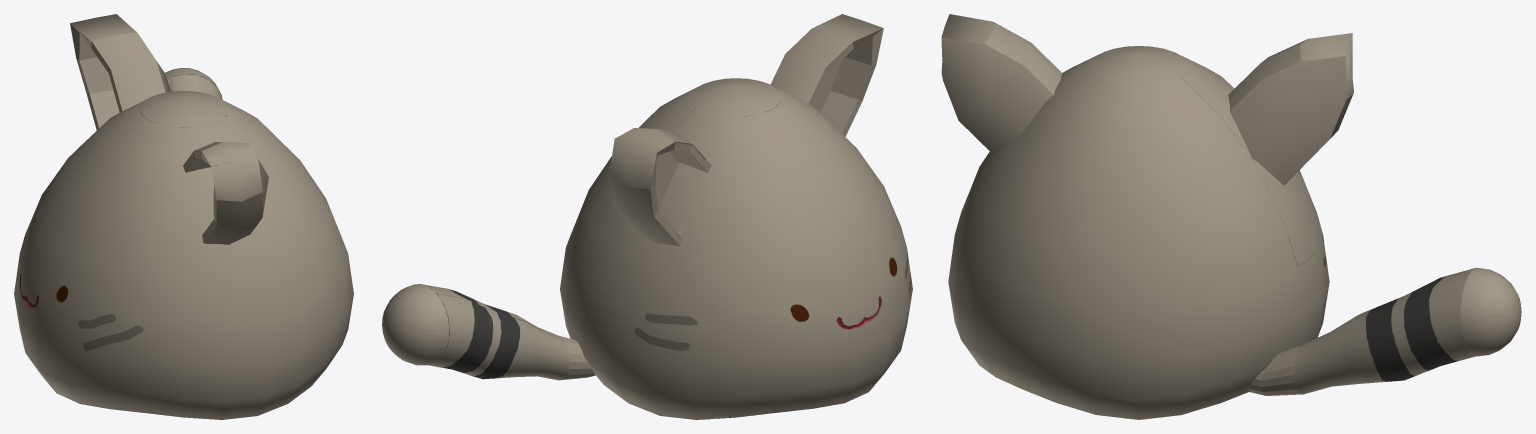
File: TabbySlime.fbx
The picture shows the model from 3 angles, left to right: view 1: azimuth 30°, elevation 25°; view 2: azimuth 150°, elevation 25°; view 3: azimuth 270°, elevation 25°; orthographic projection. The views are drawn at different scales.
Parts seen in each view (by area): view 1: Sphere001, Box002, Box001, Cylinder001; view 2: Sphere001, Cylinder001, Box001, Box002; view 3: Sphere001, Cylinder001, Box002, Box001.
Part boxes in pixels (left/top/right/bottom): Sphere001: left=14, top=91, right=353, bottom=419; Box002: left=70, top=14, right=171, bottom=130; Box001: left=183, top=142, right=268, bottom=244; Cylinder001: left=164, top=68, right=222, bottom=99; Sphere001: left=560, top=78, right=912, bottom=419; Cylinder001: left=382, top=284, right=595, bottom=380; Box001: left=770, top=14, right=883, bottom=136; Box002: left=609, top=128, right=711, bottom=245; Sphere001: left=948, top=46, right=1329, bottom=419; Cylinder001: left=1249, top=267, right=1521, bottom=395; Box002: left=1228, top=33, right=1353, bottom=185; Box001: left=941, top=14, right=1062, bottom=155.
Bounding box in the file's own units: 44.36 × 35.99 × 59.8.
